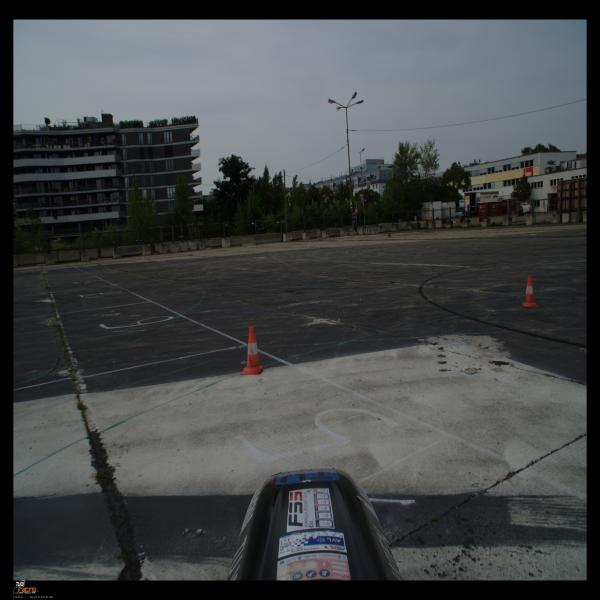orange_cone: (240, 326, 263, 375), (522, 275, 539, 307)
